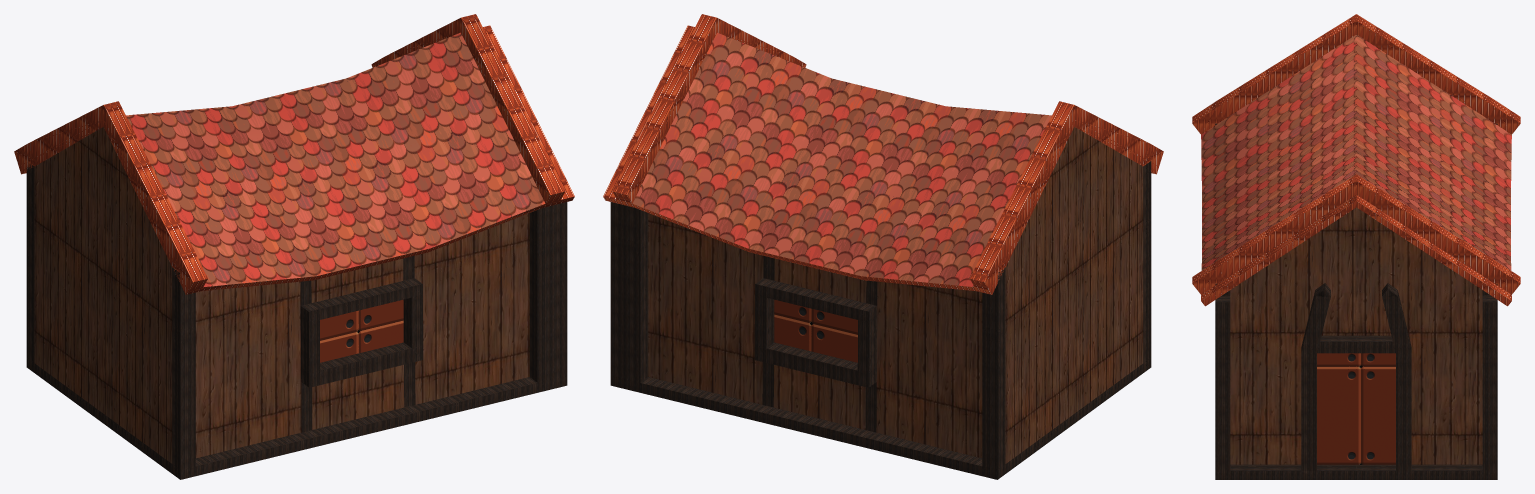
The model's file is House.FBX.
The picture shows the model from 3 angles, left to right: view 1: azimuth 30°, elevation 25°; view 2: azimuth 150°, elevation 25°; view 3: azimuth 270°, elevation 25°; orthographic projection. The views are drawn at different scales.
Visible parts, largest first — view 1: House; view 2: House; view 3: House, HouseDoor.
Boxes of the visible parts, x1=… form: House: x1=14, y1=14, x2=574, y2=479; House: x1=603, y1=14, x2=1163, y2=479; House: x1=1192, y1=14, x2=1520, y2=479; HouseDoor: x1=1317, y1=353, x2=1395, y2=464.
Bounding box in the file's own units: 11.79 × 9.29 × 9.45.
Materials: 7 (6 with a texture image).
